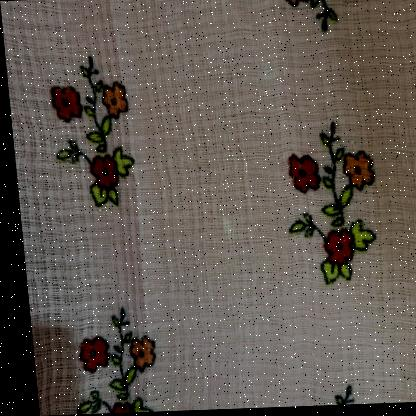spot: (258, 65, 283, 83), (217, 214, 229, 240)
